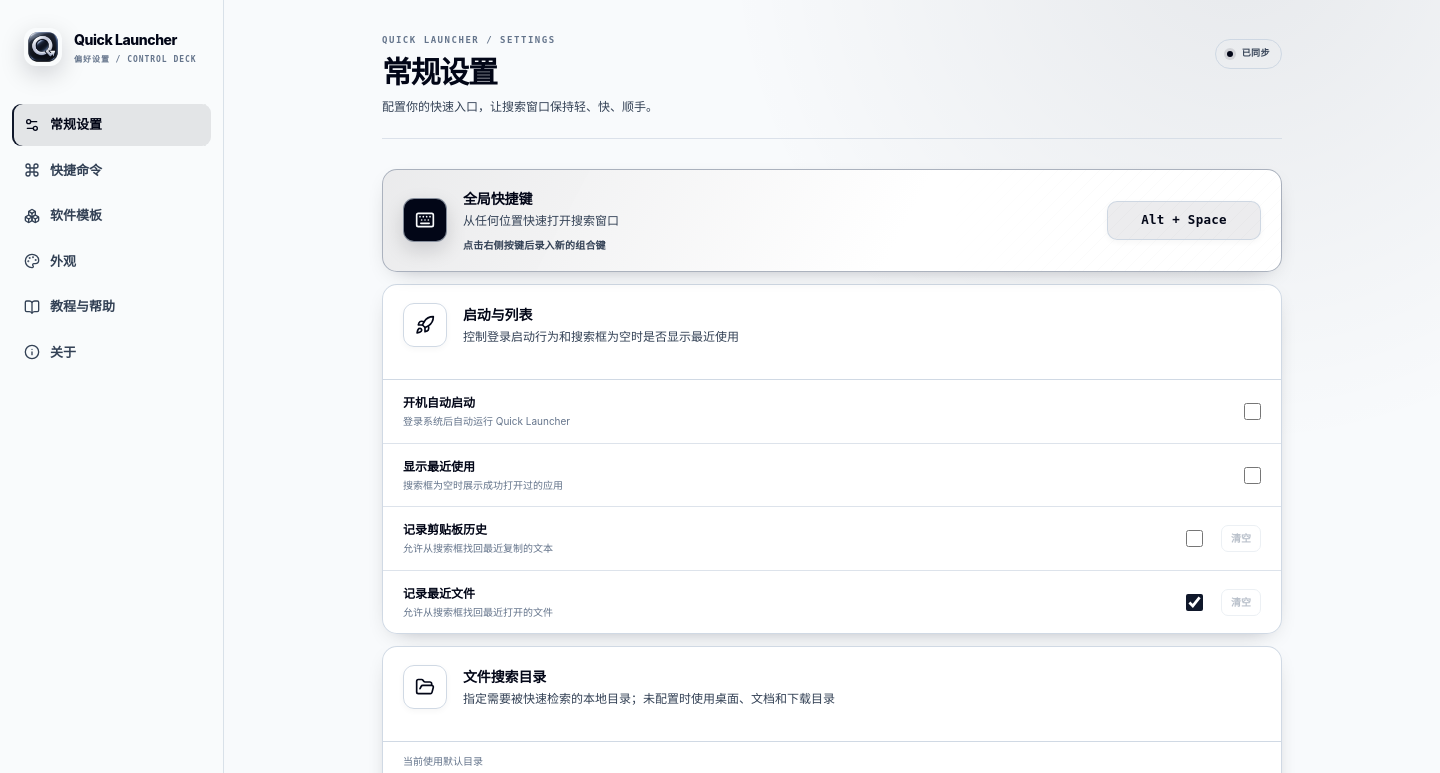
Scenario: SettingsPage › switches between settings sections
Click the button "快捷命令". click: (112, 170)
box: x1=12 y1=150 x2=211 y2=191
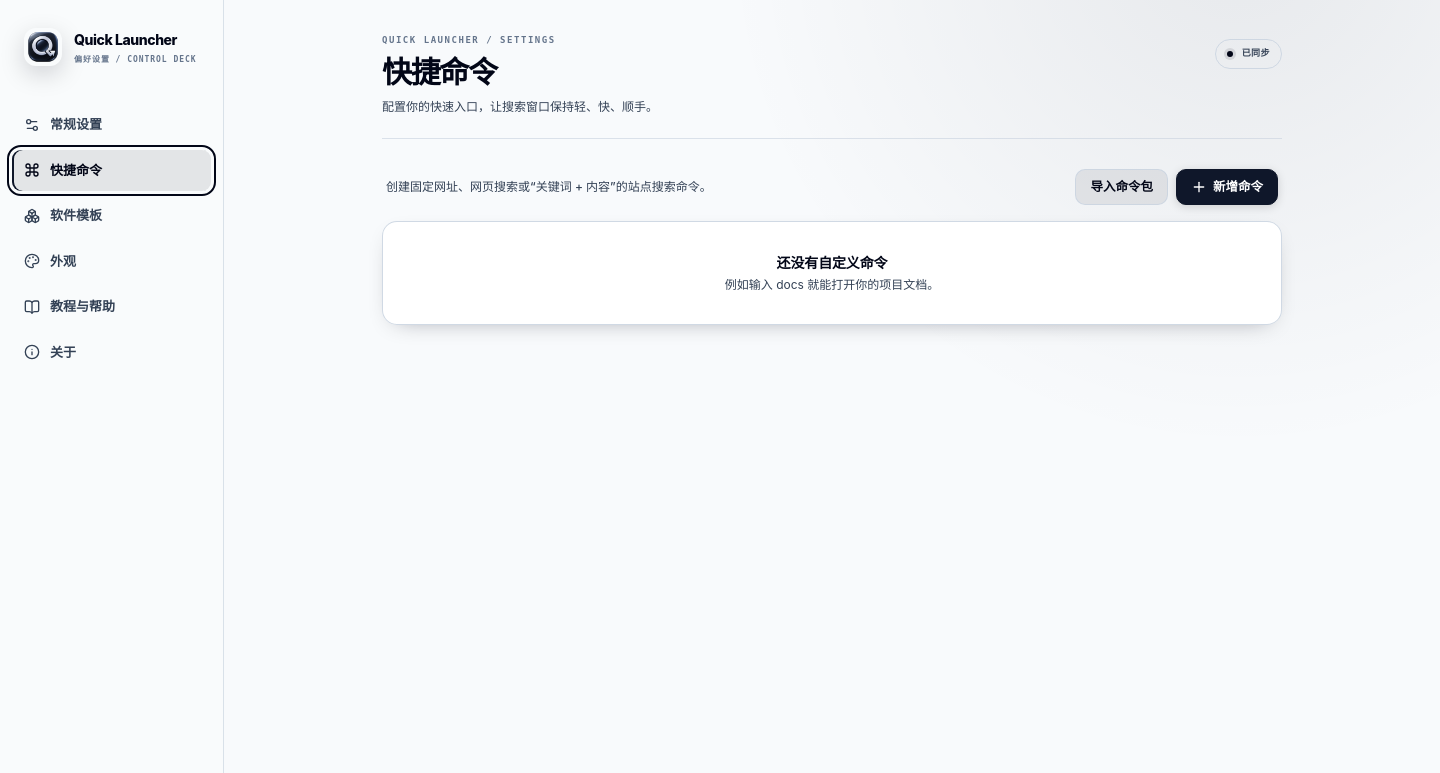
Result: the heading "快捷命令" is shown at x1=382 y1=54 x2=497 y2=90
